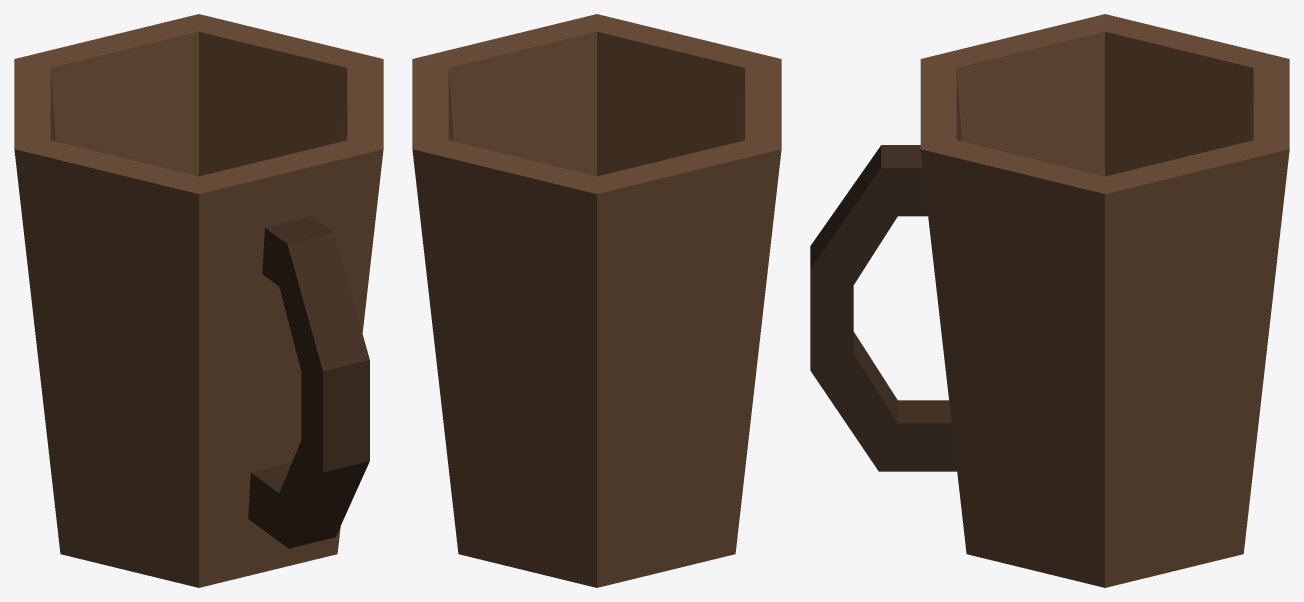
The model's file is cup_mat.fbx.
3 renders of one model, left to right at view 1: azimuth 30°, elevation 25°; view 2: azimuth 150°, elevation 25°; view 3: azimuth 270°, elevation 25°, orthographic.
Parts seen in each view (by area): view 1: cup_mat; view 2: cup_mat; view 3: cup_mat.
Part boxes in pixels (left/top/right/bottom): cup_mat: left=14, top=14, right=383, bottom=587; cup_mat: left=412, top=14, right=781, bottom=587; cup_mat: left=810, top=14, right=1289, bottom=587.
Size of the model in its own units: 13.68 by 14.73 by 15.38.
